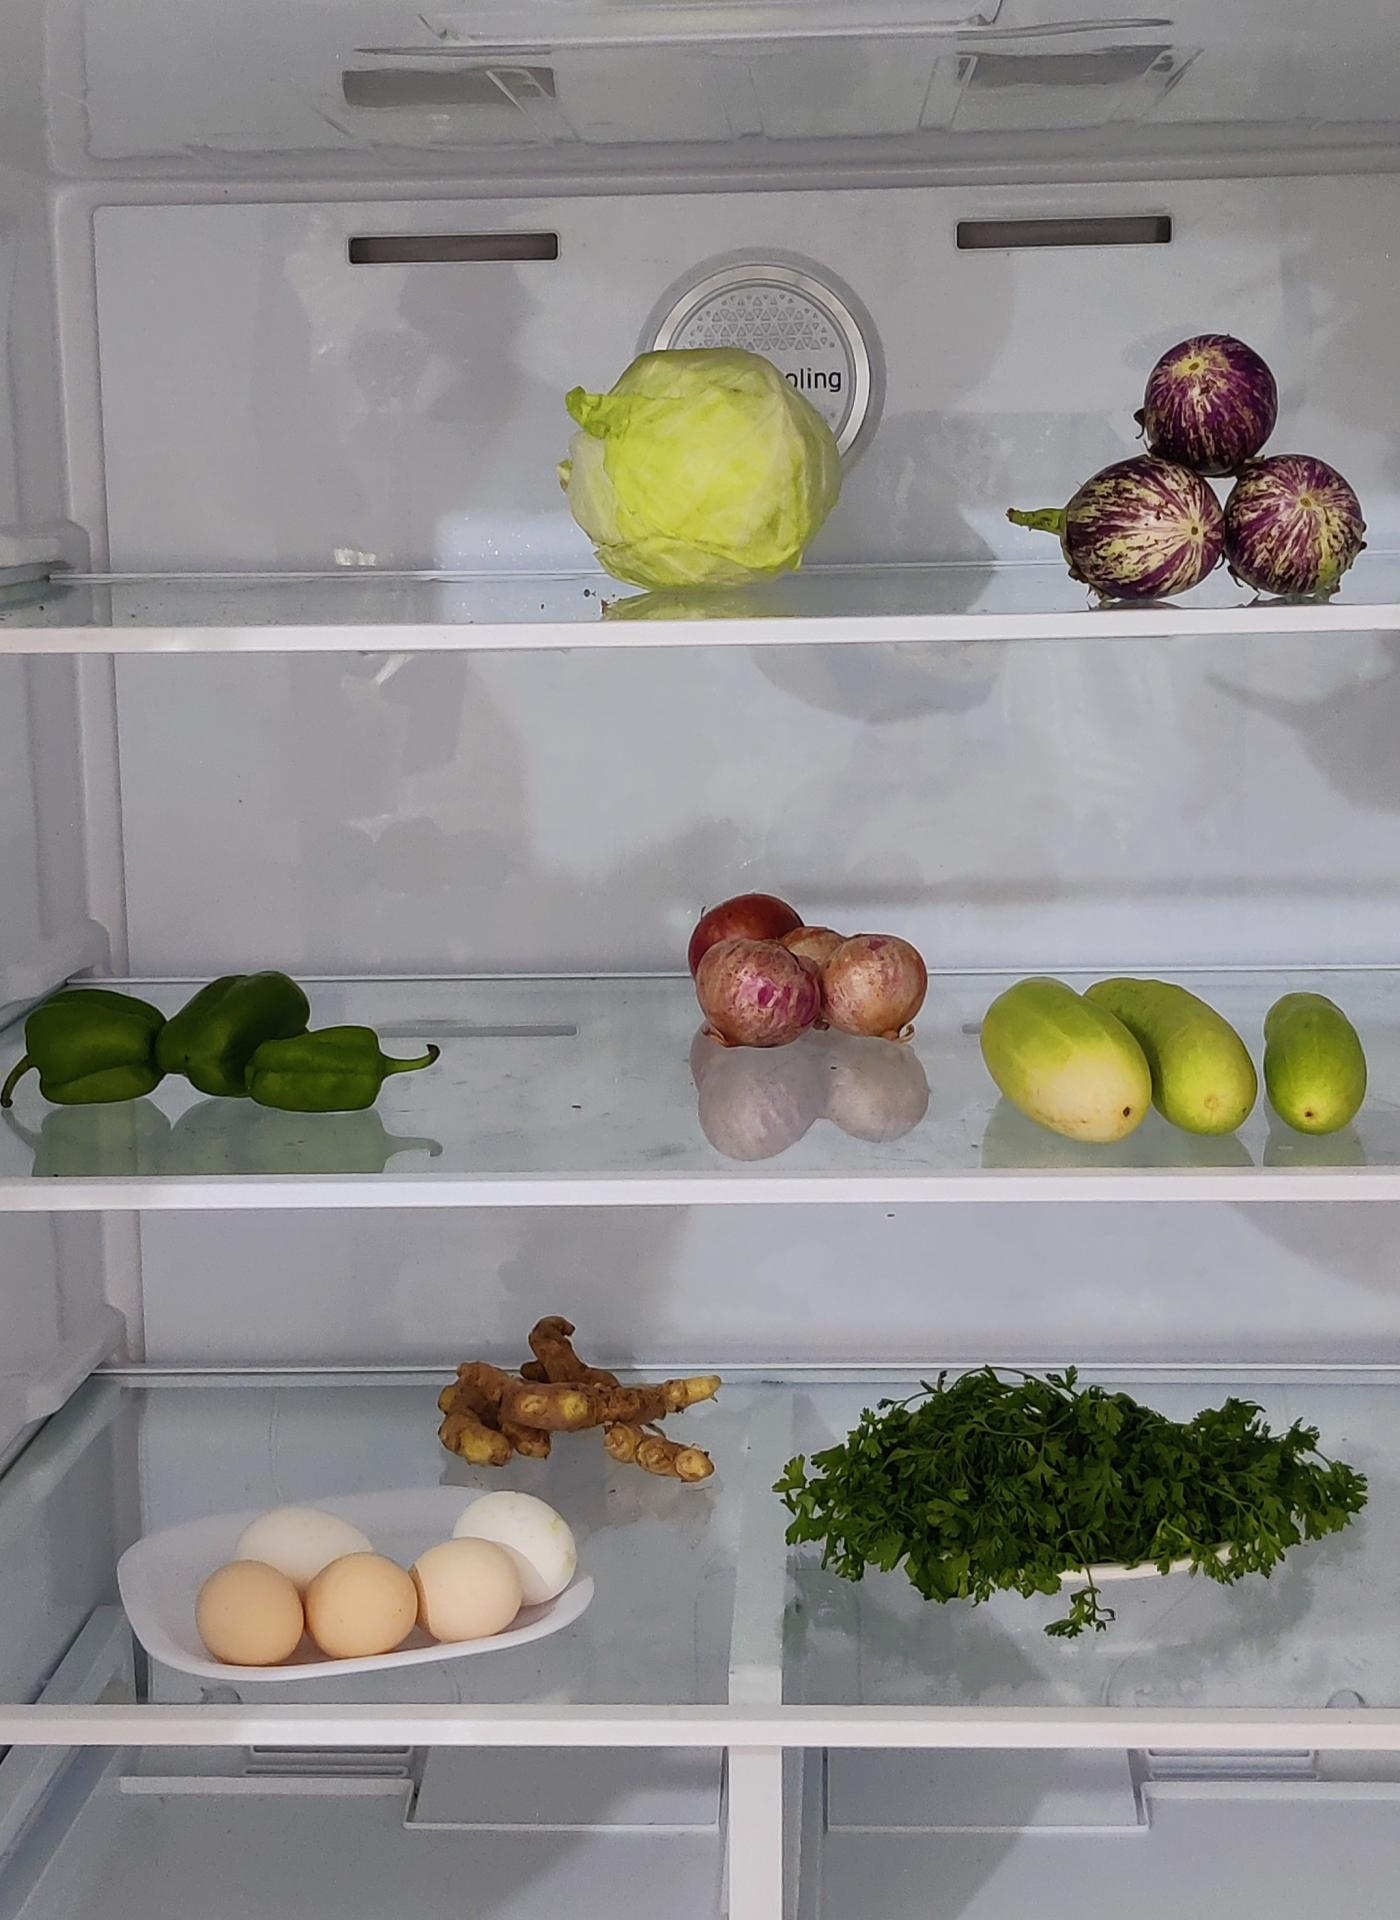brinjal: (1044, 343, 1375, 595)
cabbage: (558, 344, 841, 587)
capsicum: (4, 970, 432, 1120)
coriander: (768, 1374, 1366, 1602)
cucumber: (987, 988, 1376, 1163)
egg: (188, 1504, 573, 1676)
ginger: (437, 1312, 717, 1467)
onion: (684, 896, 930, 1054)
